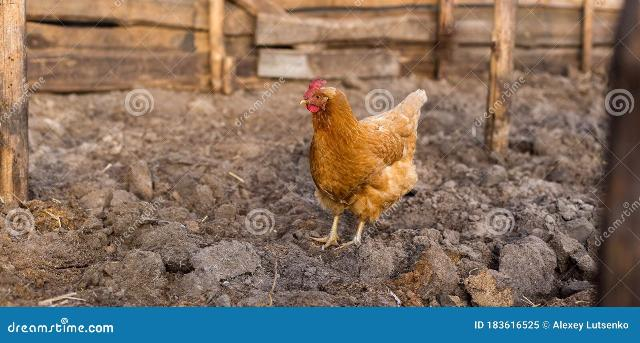Chicken: (300, 78, 427, 250)
